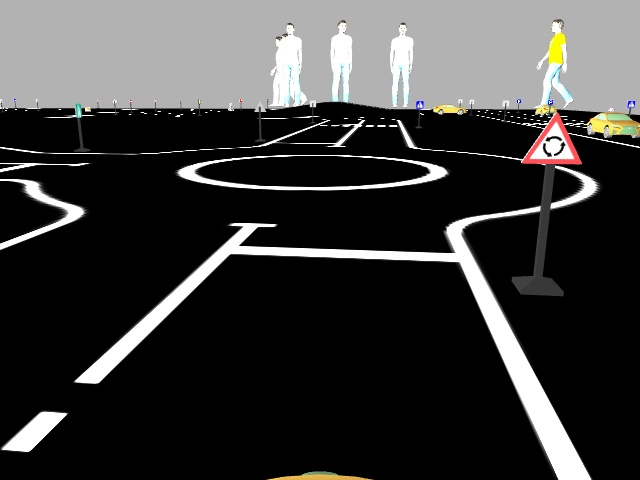Roundabout: (518, 110, 584, 169)
